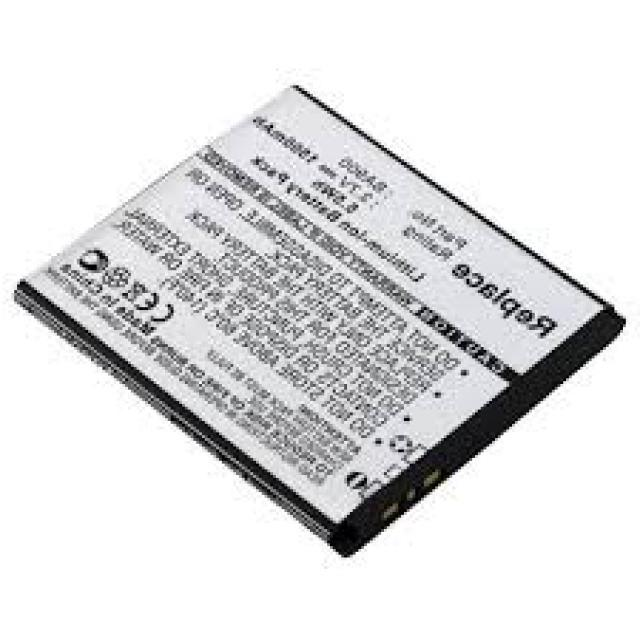battery: (18, 84, 623, 559)
